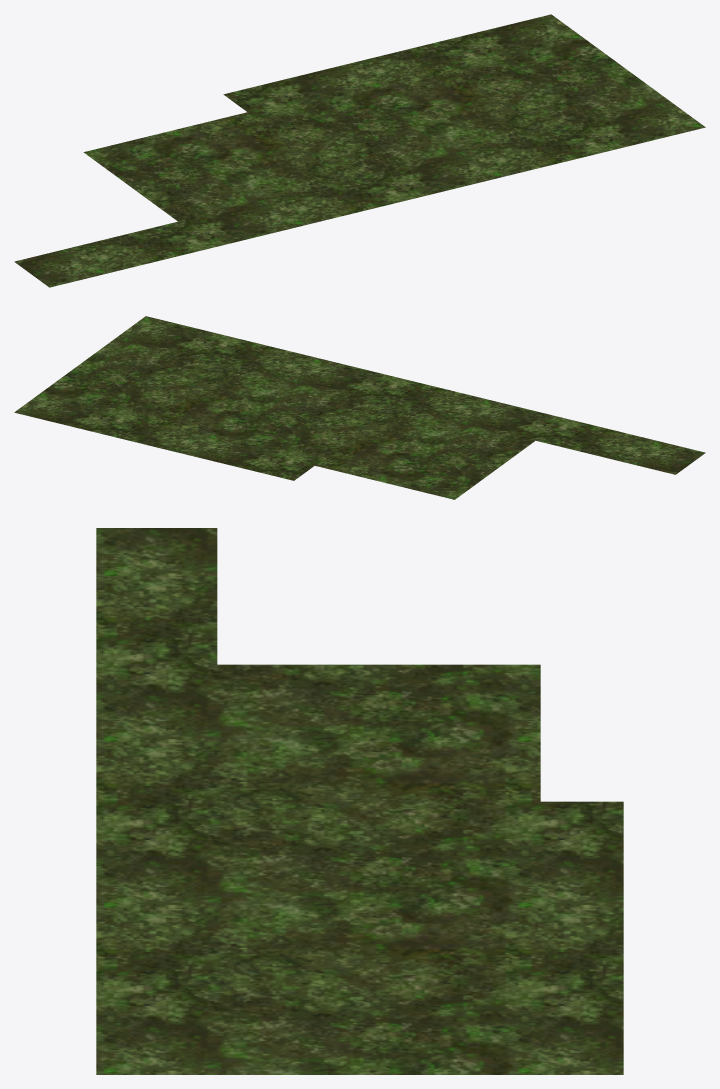
Rendered from OVERHILL_A_01_LINE423.fbx.
The picture shows the model from 3 angles, top to bottom: view 1: azimuth 30°, elevation 25°; view 2: azimuth 150°, elevation 25°; view 3: azimuth 270°, elevation 25°; orthographic projection. The views are drawn at different scales.
Visible parts, largest first — view 1: OVERHILL_A_01_LINE423; view 2: OVERHILL_A_01_LINE423; view 3: OVERHILL_A_01_LINE423.
Part boxes in pixels (x1=…): OVERHILL_A_01_LINE423: x1=14, y1=14, x2=705, y2=287; OVERHILL_A_01_LINE423: x1=14, y1=316, x2=705, y2=499; OVERHILL_A_01_LINE423: x1=96, y1=528, x2=623, y2=1074.
Bounding box in the file's own units: 80000 × 0.0297 × 32623.
Materials: 1 (1 with a texture image).
